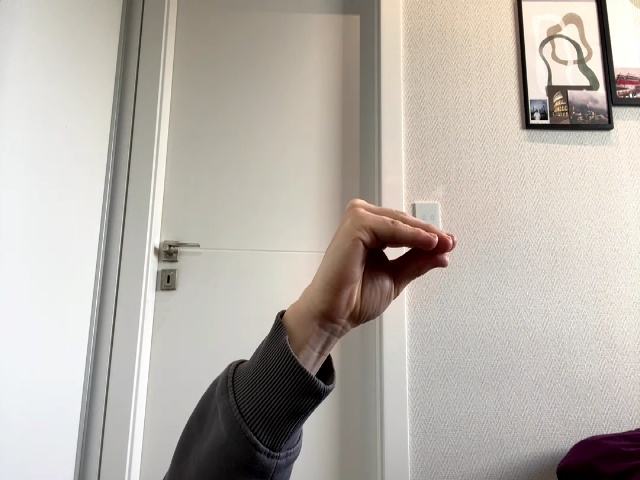E: (315, 199, 457, 327)
